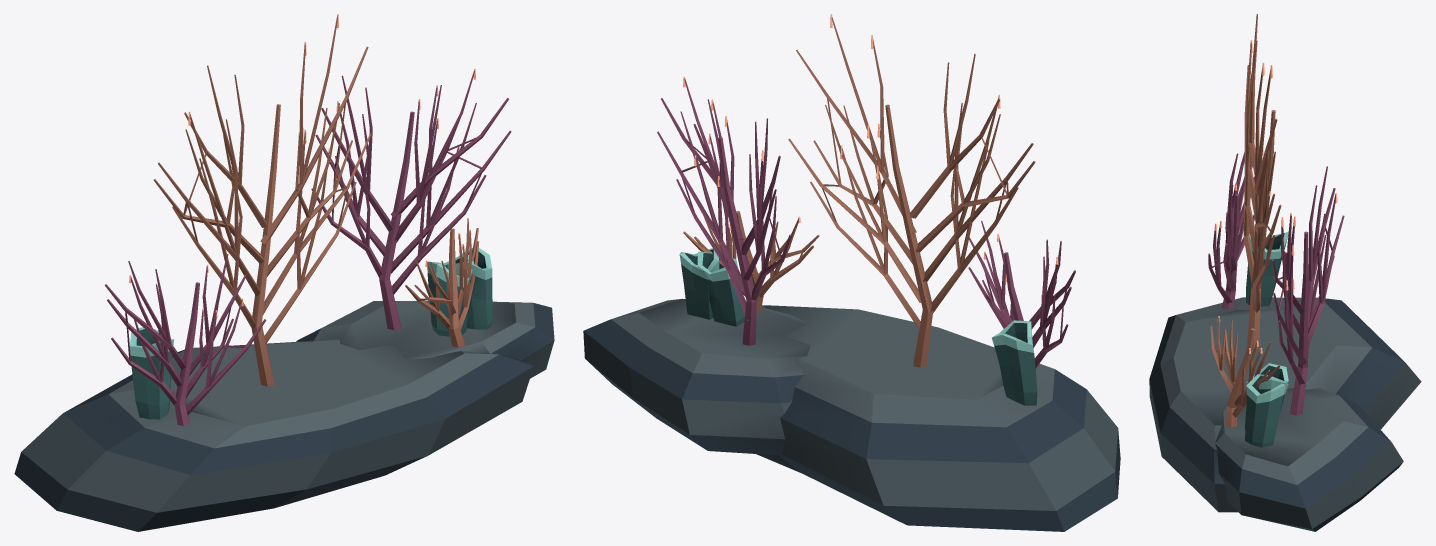
Rendered from abyss-fan-slope.glb.
3 renders of one model, left to right at view 1: azimuth 30°, elevation 25°; view 2: azimuth 150°, elevation 25°; view 3: azimuth 270°, elevation 25°, orthographic. The views are drawn at different scales.
Visible parts, largest first — view 1: abyss-fan-slope; view 2: abyss-fan-slope; view 3: abyss-fan-slope.
Part boxes in pixels (left/top/right/bottom): abyss-fan-slope: left=14, top=14, right=554, bottom=531; abyss-fan-slope: left=583, top=14, right=1120, bottom=531; abyss-fan-slope: left=1149, top=14, right=1421, bottom=531.
Bounding box in the file's own units: 9.31 × 7.27 × 4.55.
